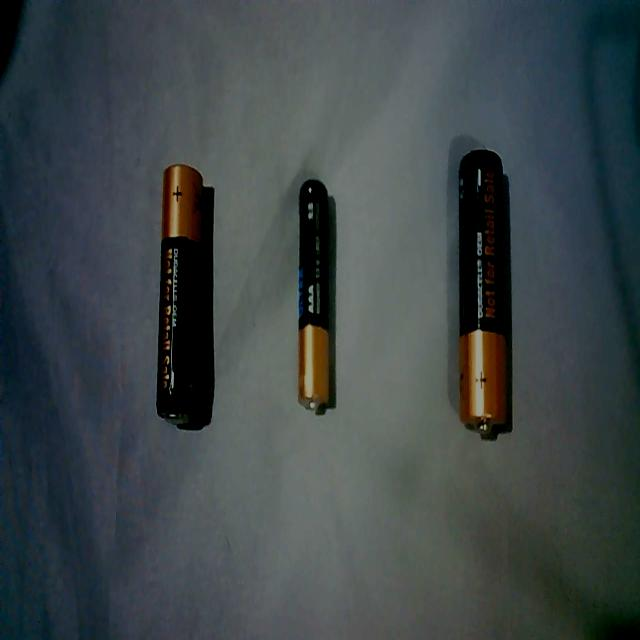AA: (153, 156, 210, 434)
AAA: (296, 172, 334, 421)
